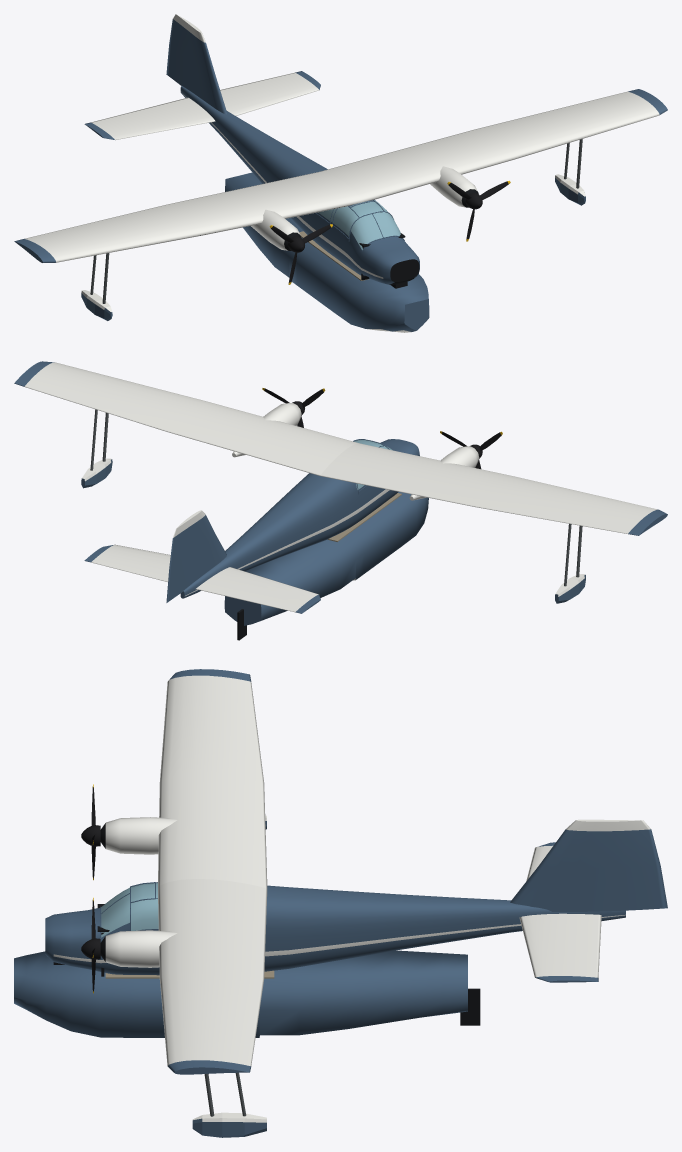
The model's file is Albatross.glb.
3 renders of one model, top to bottom at view 1: azimuth 30°, elevation 25°; view 2: azimuth 150°, elevation 25°; view 3: azimuth 270°, elevation 25°, orthographic. The views are drawn at different scales.
Visible parts, largest first — view 1: Fuselage, WingL, WingR, Tail, Glass, FloatR, FloatL, Propeller, Propeller2; view 2: Fuselage, WingL, WingR, Tail, FloatR, FloatL; view 3: Fuselage, WingR, WingL, Tail, Glass, FloatL.
Boxes of the visible parts, <box> form: Fuselage: <box>180,86,478,332</box>; WingL: <box>320,89,667,202</box>; WingR: <box>14,171,361,262</box>; Tail: <box>84,14,320,140</box>; Glass: <box>318,200,400,249</box>; FloatR: <box>81,253,112,320</box>; FloatL: <box>555,139,585,205</box>; Propeller: <box>447,180,510,241</box>; Propeller2: <box>269,224,332,284</box>; Fuselage: <box>180,403,479,640</box>; WingL: <box>14,361,359,475</box>; WingR: <box>320,443,667,535</box>; Tail: <box>84,510,320,613</box>; FloatR: <box>555,524,585,603</box>; FloatL: <box>81,409,112,488</box>; Fuselage: <box>14,817,625,1037</box>; WingR: <box>158,669,267,888</box>; WingL: <box>158,879,267,1074</box>; Tail: <box>510,819,667,982</box>; Glass: <box>101,883,158,937</box>; FloatL: <box>192,1072,266,1137</box>.
Bounding box in the file's own units: 19 × 4.66 × 13.19.
